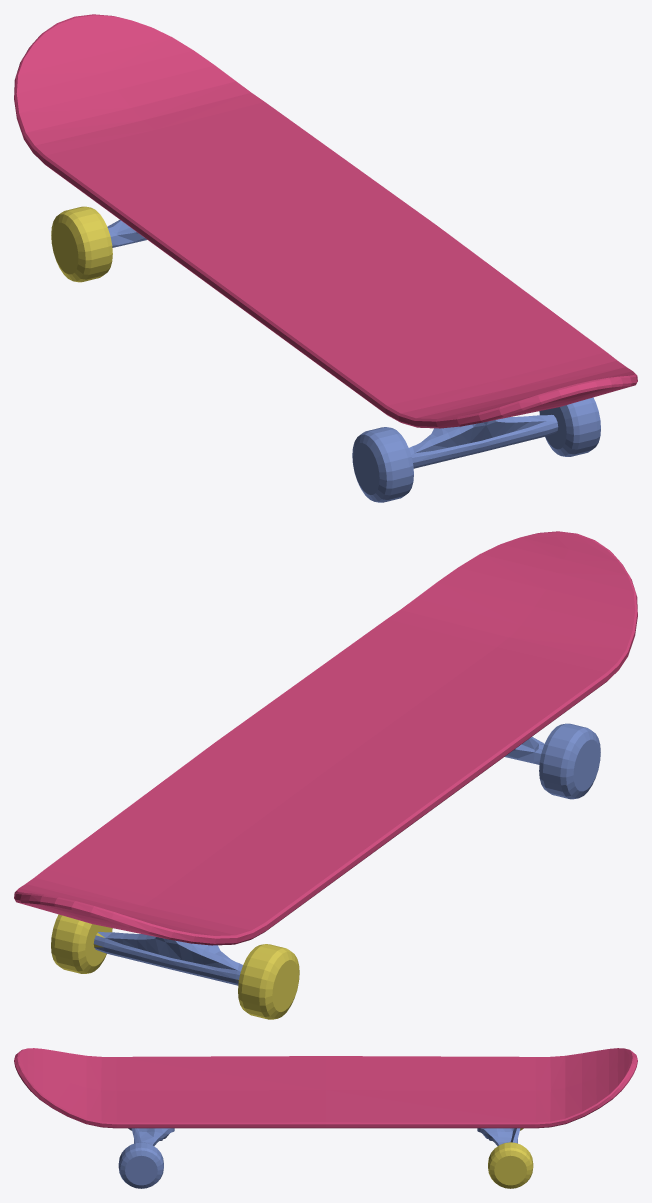
3 views of the same model, one above another, from view 1: azimuth 30°, elevation 25°; view 2: azimuth 150°, elevation 25°; view 3: azimuth 270°, elevation 25° (orthographic). The views are drawn at different scales.
Parts seen in each view (by area): view 1: world; view 2: world; view 3: world.
Part boxes in pixels (x1,y1,x2,y2): world: (14,14,637,502); world: (14,531,637,1019); world: (14,1048,637,1188).
Size of the model in its own units: 20.93 by 14.54 by 81.66.
